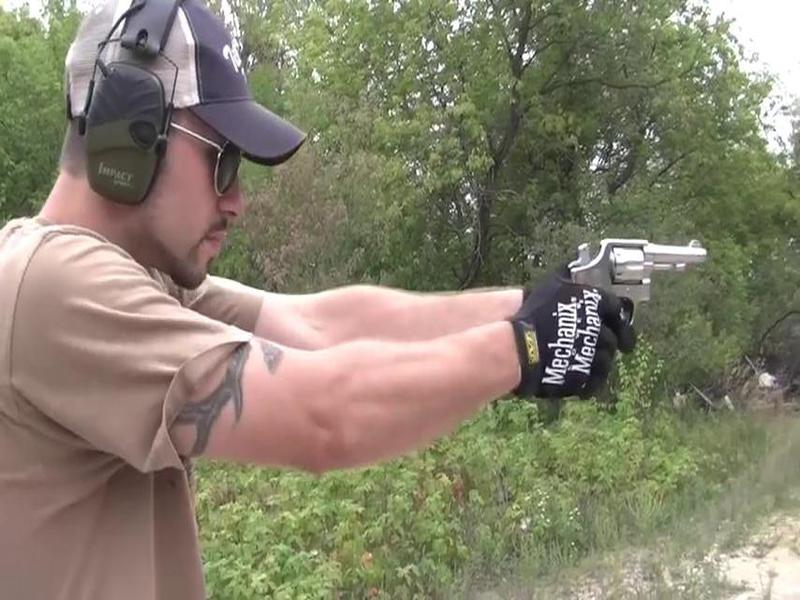Revolver: (546, 216, 709, 345)
